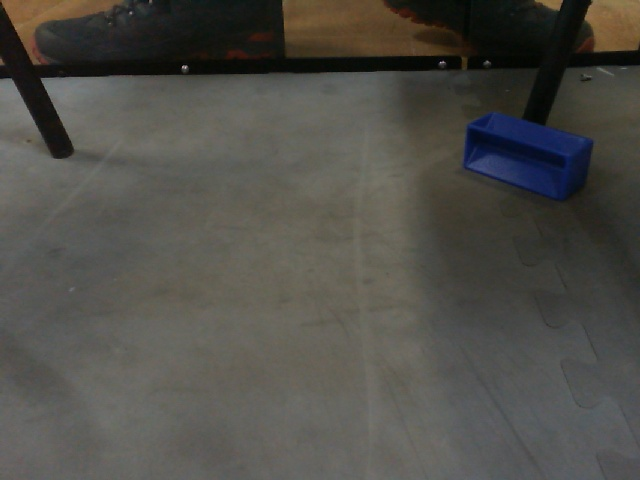BlueSample: (461, 108, 595, 204)
